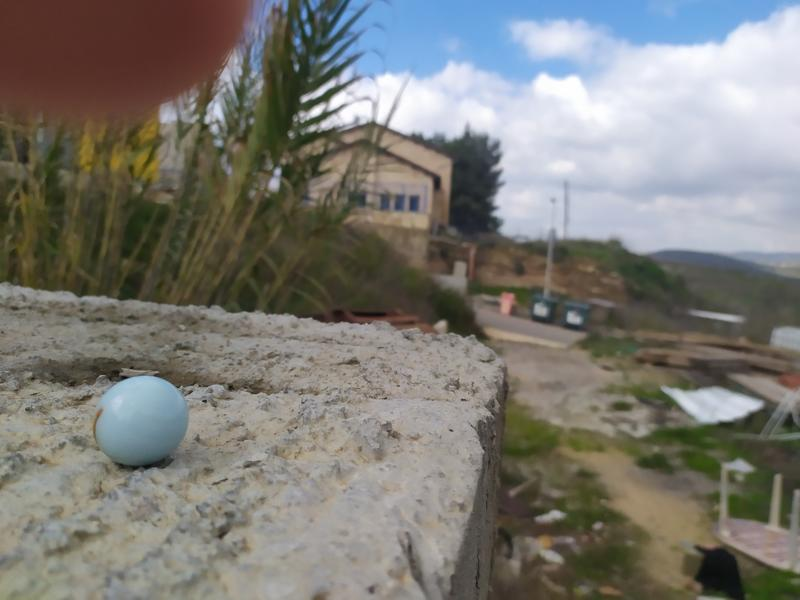Warning: (87, 372, 193, 471)
